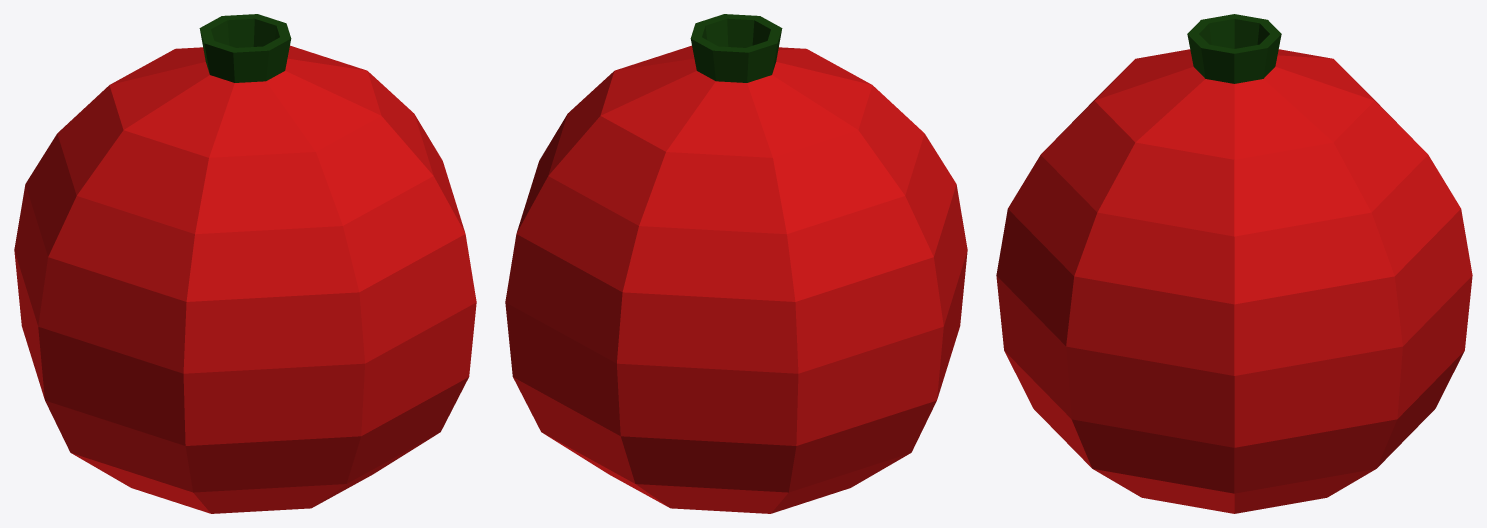
3 renders of one model, left to right at view 1: azimuth 30°, elevation 25°; view 2: azimuth 150°, elevation 25°; view 3: azimuth 270°, elevation 25°, orthographic.
Parts seen in each view (by area): view 1: GarnetFruit_Sphere.003; view 2: GarnetFruit_Sphere.003; view 3: GarnetFruit_Sphere.003.
Boxes of the visible parts, x1,y1,x2,y2 form: GarnetFruit_Sphere.003: (14,14,476,513); GarnetFruit_Sphere.003: (505,14,967,513); GarnetFruit_Sphere.003: (996,14,1472,513).
Bounding box in the file's own units: 2.03 × 2.15 × 2.03.
Materials: 1 (1 with a texture image).
